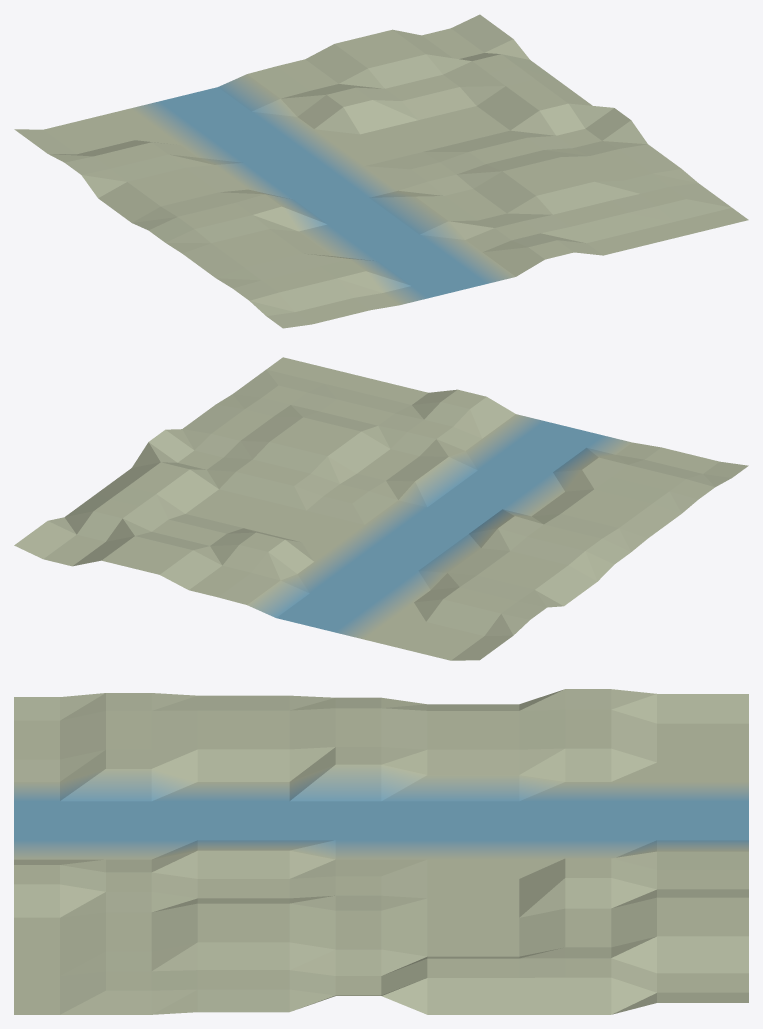
The picture shows the model from 3 angles, top to bottom: view 1: azimuth 30°, elevation 25°; view 2: azimuth 150°, elevation 25°; view 3: azimuth 270°, elevation 25°; orthographic projection. The views are drawn at different scales.
Bounding box in the file's own units: 32 × 0.9857 × 32.
